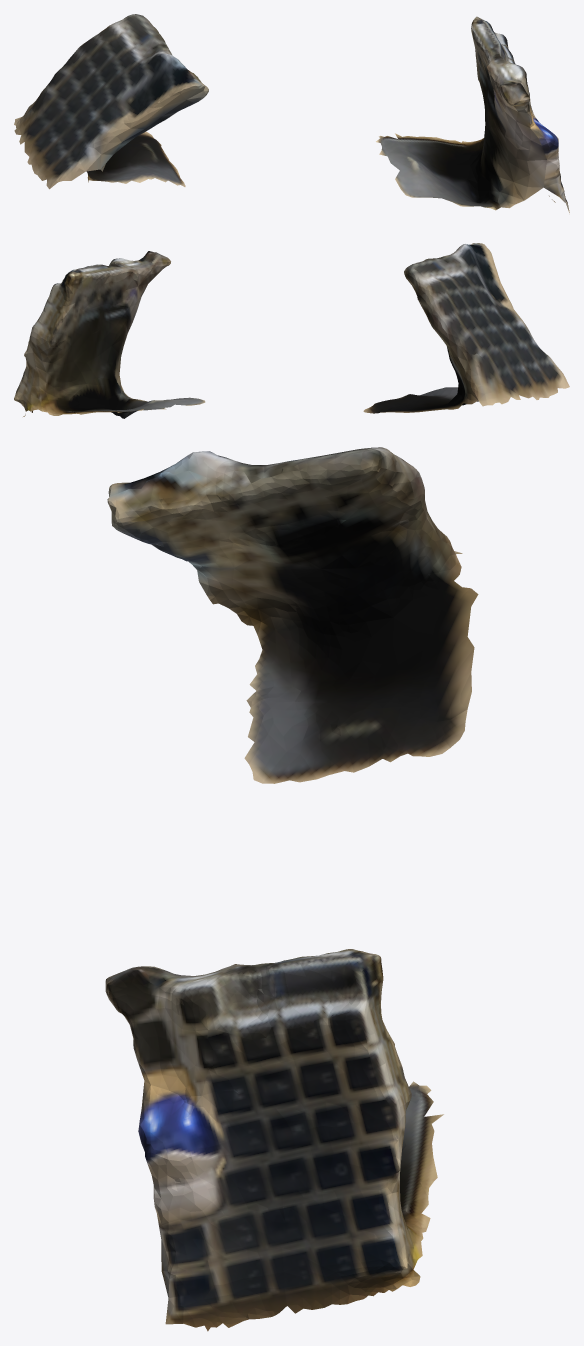
Rendered from keyball61.glb.
3 renders of one model, top to bottom at view 1: azimuth 30°, elevation 25°; view 2: azimuth 150°, elevation 25°; view 3: azimuth 270°, elevation 25°, orthographic. The views are drawn at different scales.
Parts seen in each view (by area): view 1: mesh.001; view 2: mesh.001; view 3: mesh.001.
Part boxes in pixels (bbox=[...]): mesh.001: bbox=[14, 14, 569, 212]; mesh.001: bbox=[14, 243, 569, 418]; mesh.001: bbox=[105, 447, 478, 1331].
Size of the model in its own units: 0.4813 by 0.2288 by 0.1522.
Materials: 1 (1 with a texture image).
